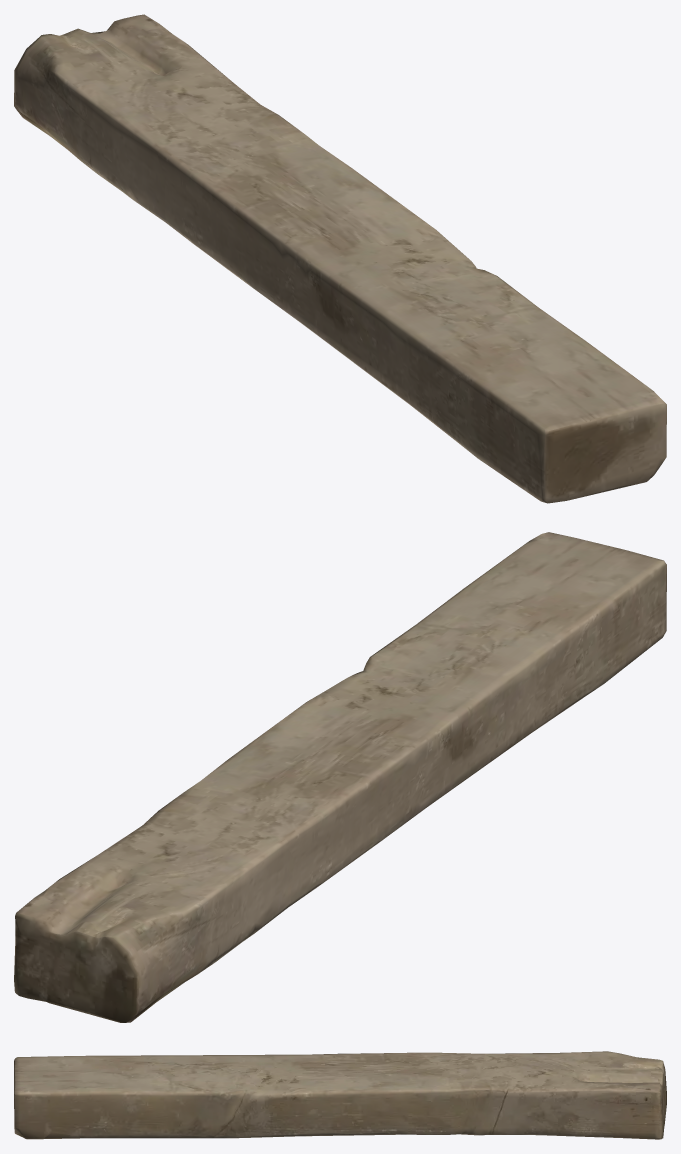
Rendered from uebpbd3fa_LOD0_79a93b.glb.
3 renders of one model, top to bottom at view 1: azimuth 30°, elevation 25°; view 2: azimuth 150°, elevation 25°; view 3: azimuth 270°, elevation 25°, orthographic. The views are drawn at different scales.
Parts seen in each view (by area): view 1: uebpbd3fa_LOD0; view 2: uebpbd3fa_LOD0; view 3: uebpbd3fa_LOD0.
Boxes of the visible parts, x1=… form: uebpbd3fa_LOD0: x1=14, y1=14, x2=666, y2=503; uebpbd3fa_LOD0: x1=14, y1=532, x2=666, y2=1022; uebpbd3fa_LOD0: x1=14, y1=1051, x2=666, y2=1139.
Bounding box in the file's own units: 0.179 × 0.1084 × 1.23.
1 material, 1 textured.
